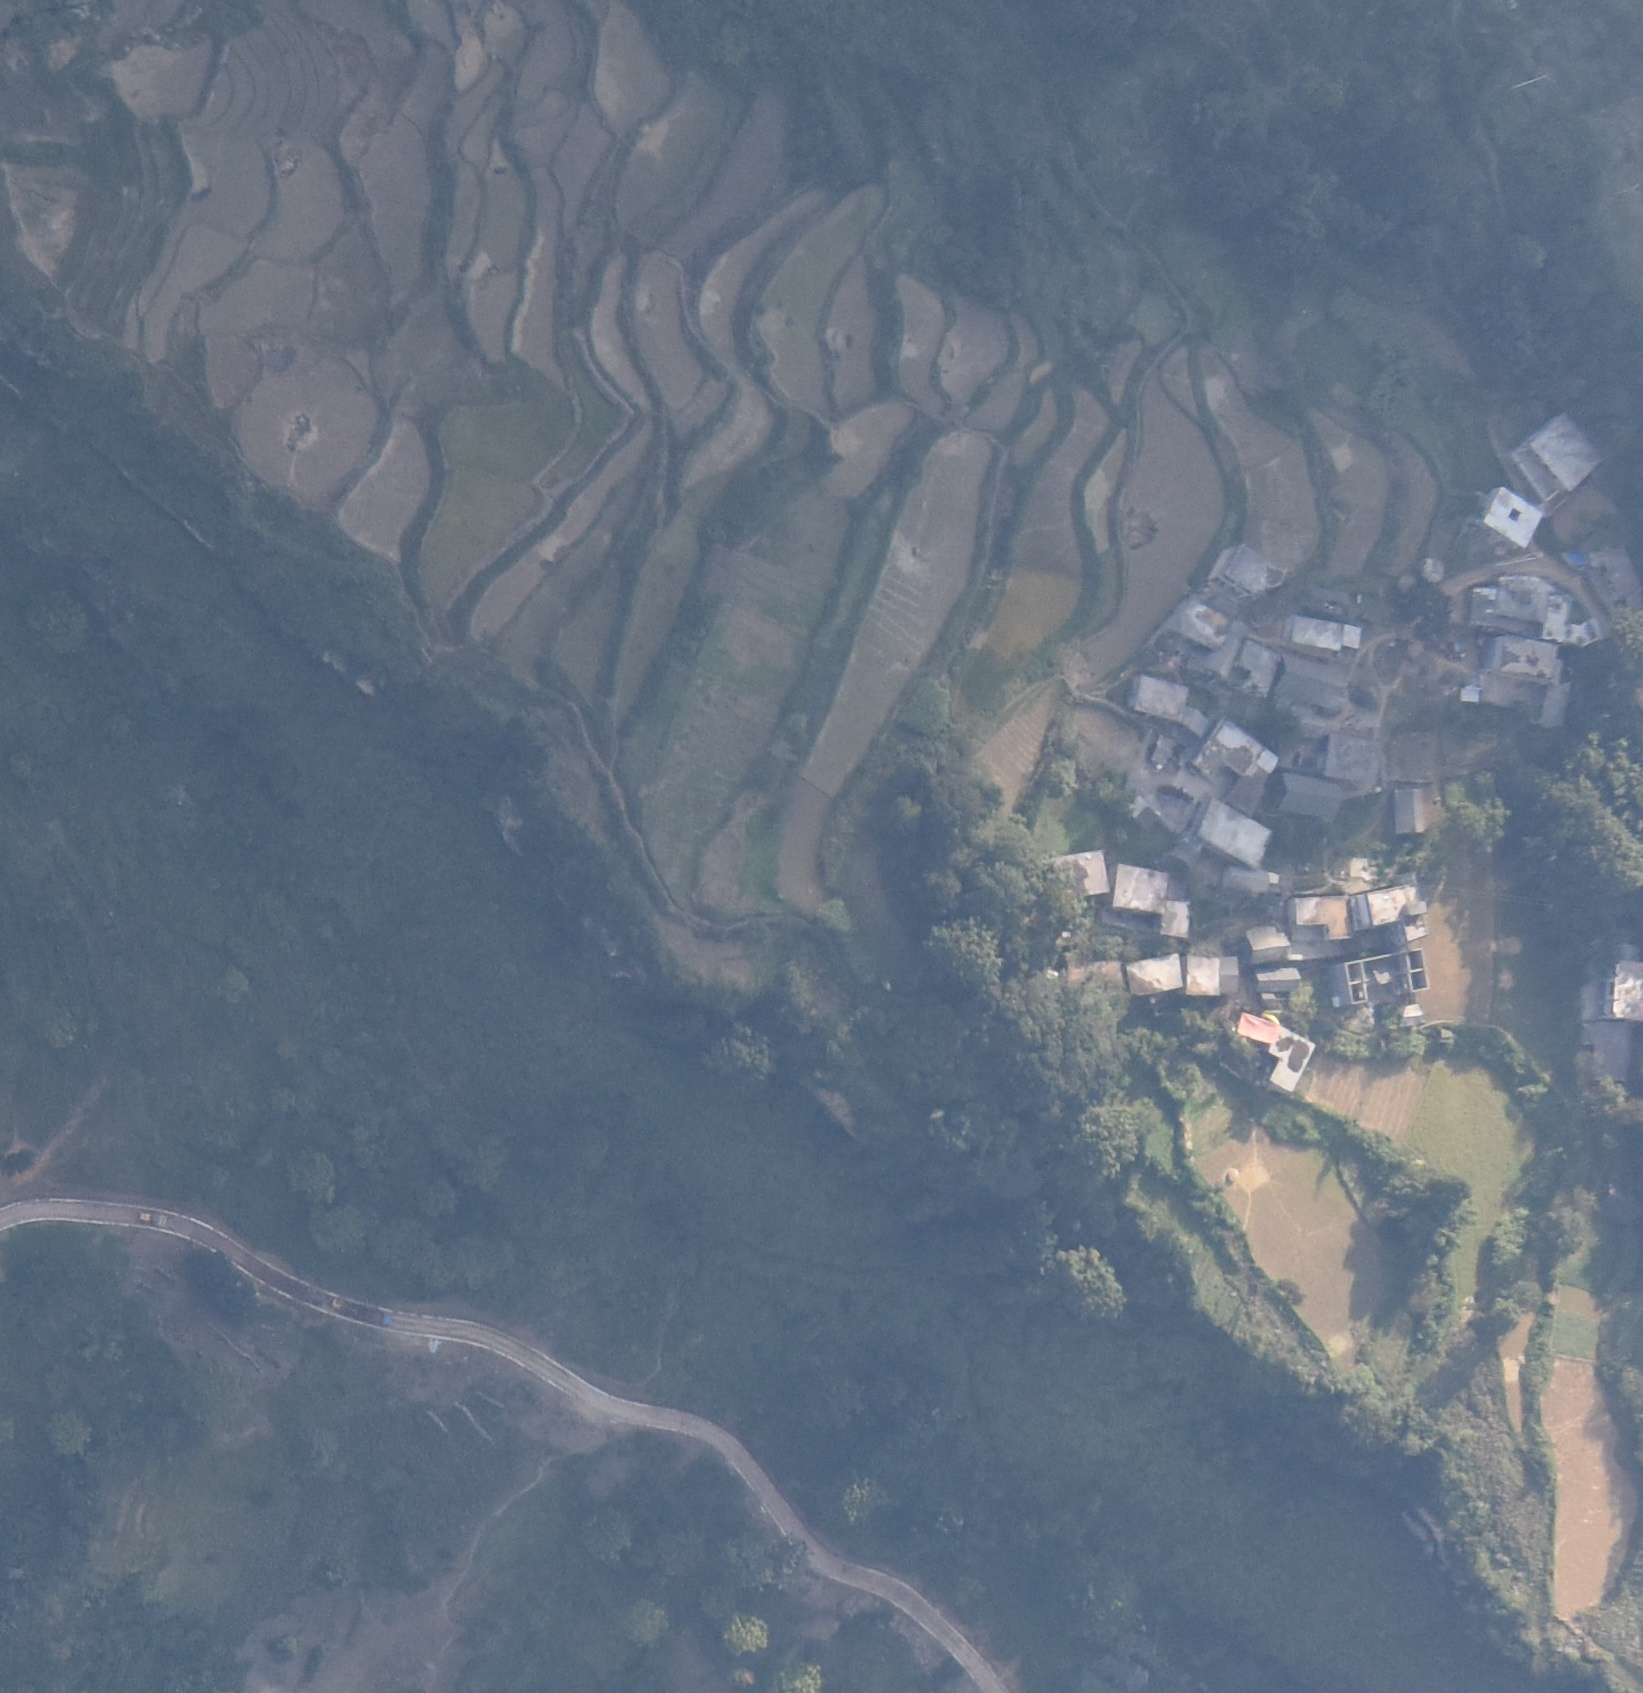building: (1175, 594, 1278, 691), (1461, 640, 1572, 729), (1281, 725, 1376, 815), (1582, 962, 1643, 1087), (1519, 412, 1603, 500), (1194, 718, 1273, 806), (1467, 575, 1572, 636), (1341, 950, 1432, 1019), (1238, 1009, 1314, 1090), (1114, 865, 1192, 938), (1198, 799, 1274, 869), (1476, 485, 1543, 548), (1359, 886, 1431, 941), (1210, 542, 1282, 597), (1278, 656, 1351, 707), (1284, 613, 1366, 651), (1290, 897, 1355, 944), (1043, 853, 1110, 898), (1059, 962, 1124, 1007), (1130, 677, 1187, 720), (1128, 957, 1182, 999), (1186, 956, 1239, 995), (1392, 781, 1426, 835), (1256, 968, 1305, 1005), (1248, 925, 1292, 962)
vehicle: (140, 1211, 167, 1227)
well: (1417, 553, 1447, 581)
